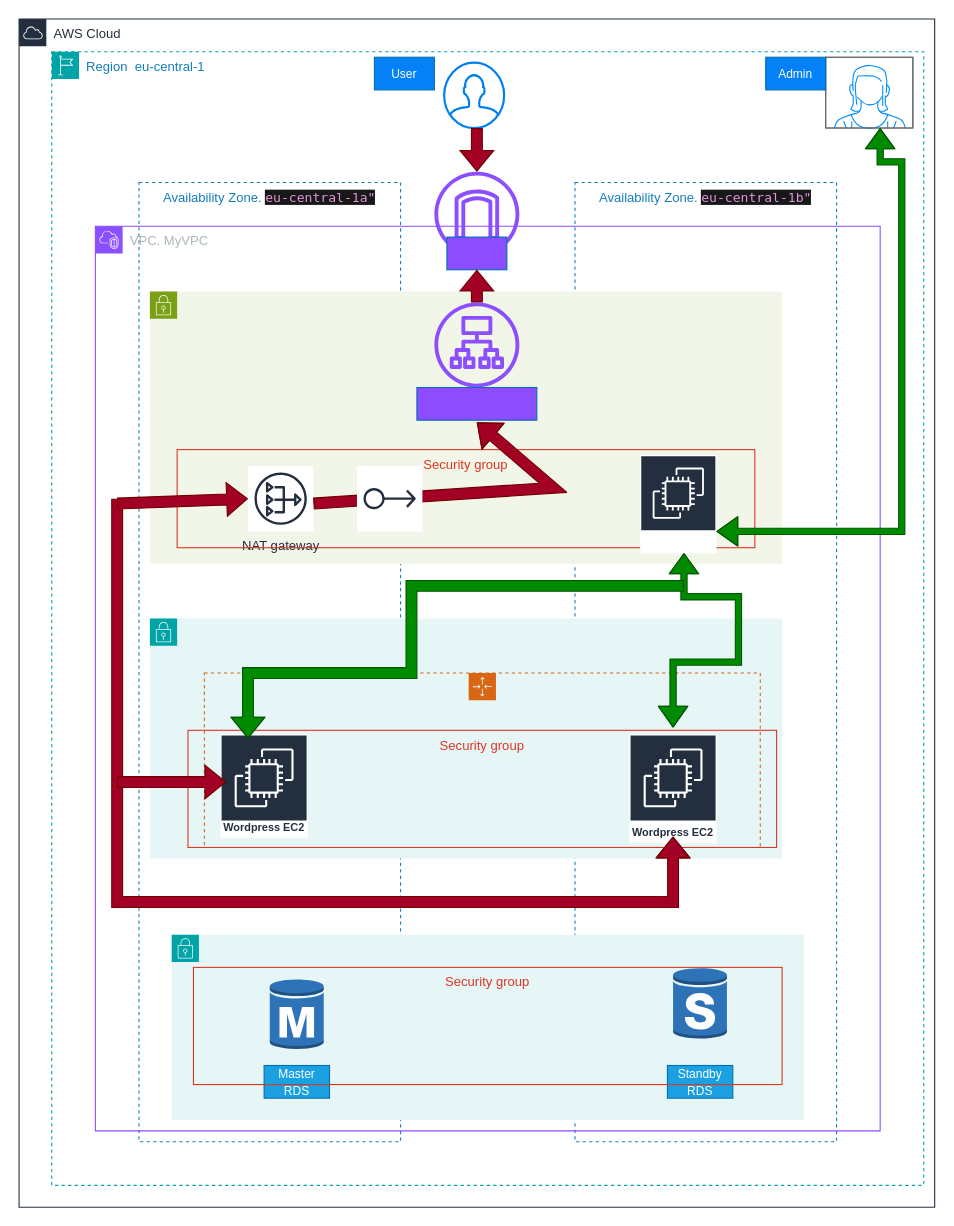
This 954x1226 diagram has some shape labels left out. The shapes that lost their labels are listed below. From the top down, each one's box as (x1, y1, x2, y2) in pixels, then its label:
(446, 236, 507, 270): IGW
(416, 386, 537, 420): Application Load Balancer
(149, 290, 782, 564): Public subnet [ "10.0.101.0/24" "10.0.102.0/24" ]
(356, 465, 422, 531): Elastic IP Address
(639, 454, 716, 553): Bastion EC2
(149, 617, 782, 858): Private subnet. [ "10.0.1.0/24" "10.0.2.0/24" ]
(203, 672, 760, 847): Auto Scaling group
(171, 934, 804, 1120): Private subnet [ "10.0.151.0/24" "10.0.152.0/24" ]
